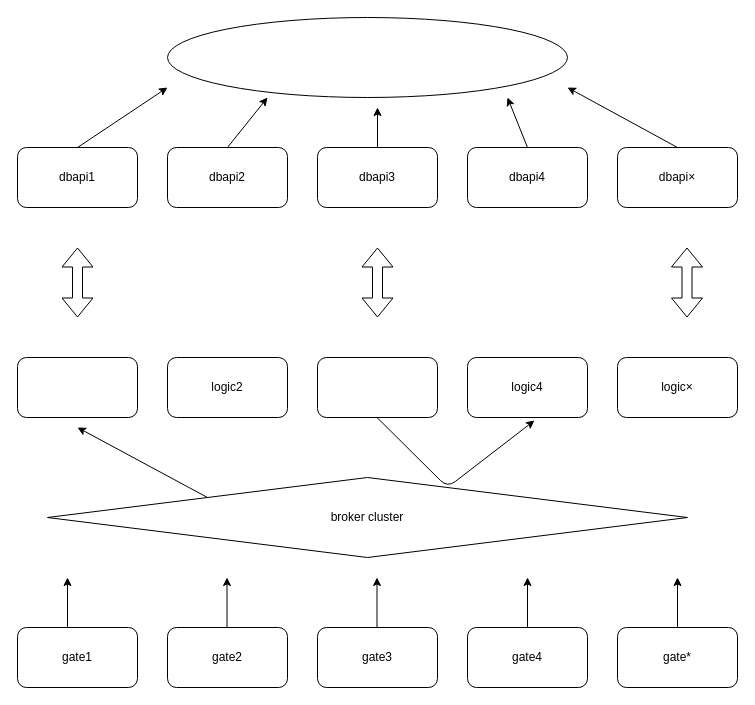
The diagram is 755 pixels wide and 705 high, and some of its shapes have lost their labels. Here are the shapes that lost their labels. From the top down, the centre of each, then its label:
At (367,57): "db cluster".
At (77,387): "logic1".
At (377,387): "logic3".
